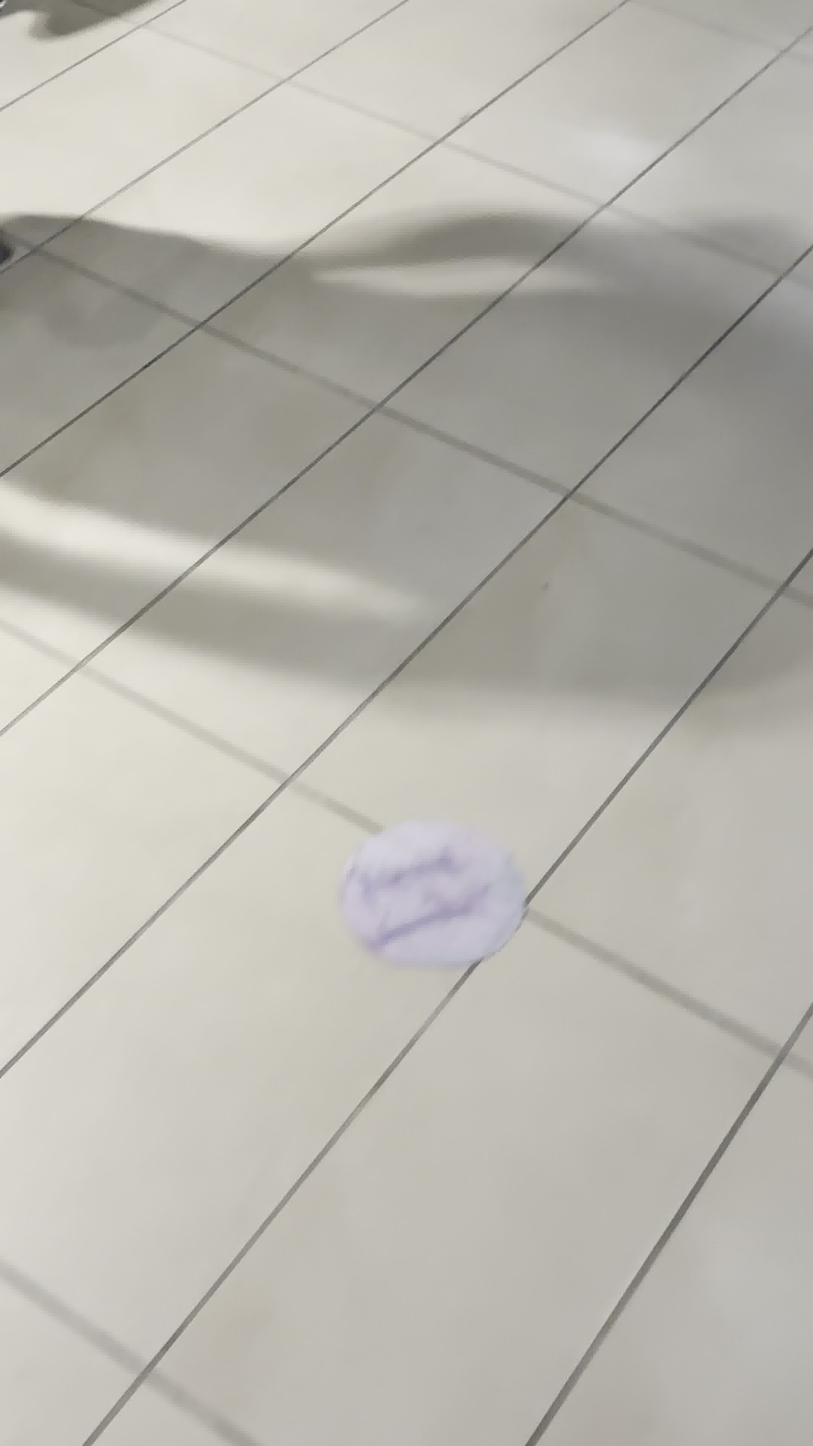Target: (341, 820, 524, 970)
